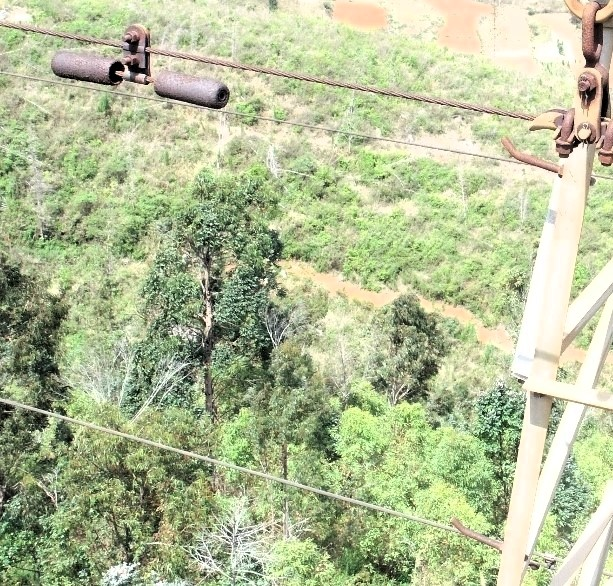Shockproof hammer: (42, 20, 236, 111)
